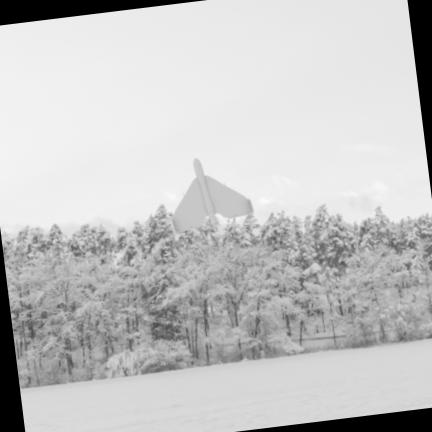Shahed: (171, 158, 253, 234)
